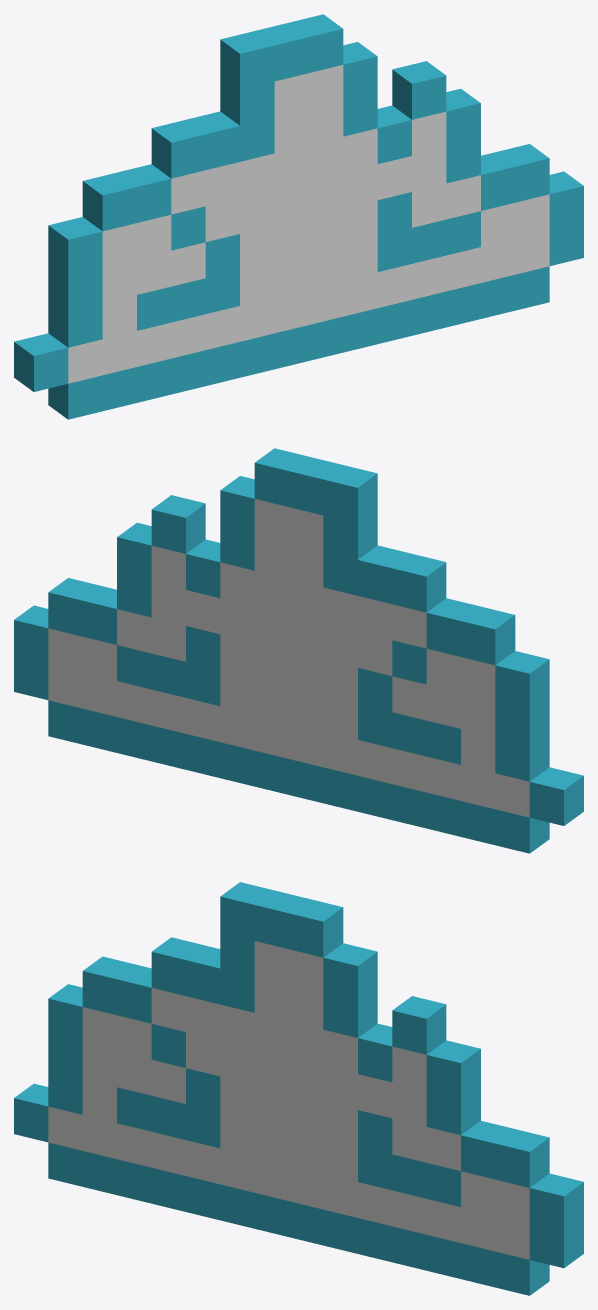
The model's file is nubeModelo.fbx.
3 views of the same model, one above another, from view 1: azimuth 30°, elevation 25°; view 2: azimuth 150°, elevation 25°; view 3: azimuth 330°, elevation 25° (orthographic).
Parts seen in each view (by area): view 1: Cube; view 2: Cube; view 3: Cube.
Part boxes in pixels (<box>): Cube: <box>14,14,583,419</box>; Cube: <box>14,448,583,853</box>; Cube: <box>14,882,583,1295</box>.
Bounding box in the file's own units: 1600 × 900 × 100.
